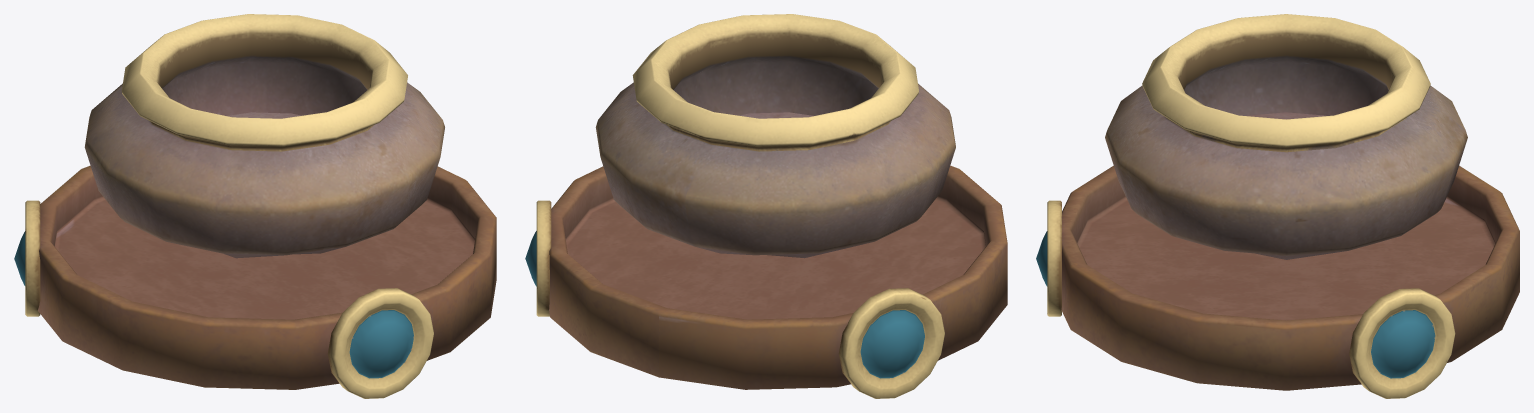
The model's file is antorcha.glb.
3 renders of one model, left to right at view 1: azimuth 30°, elevation 25°; view 2: azimuth 150°, elevation 25°; view 3: azimuth 270°, elevation 25°, orthographic.
Visible parts, largest first — view 1: antorcha; view 2: antorcha; view 3: antorcha.
Boxes of the visible parts, x1,y1,x2,y2 form: antorcha: (14,14,496,398); antorcha: (525,14,1007,398); antorcha: (1036,14,1519,398).
Size of the model in its own units: 1.53 by 0.877 by 1.57.
1 material, 1 textured.
